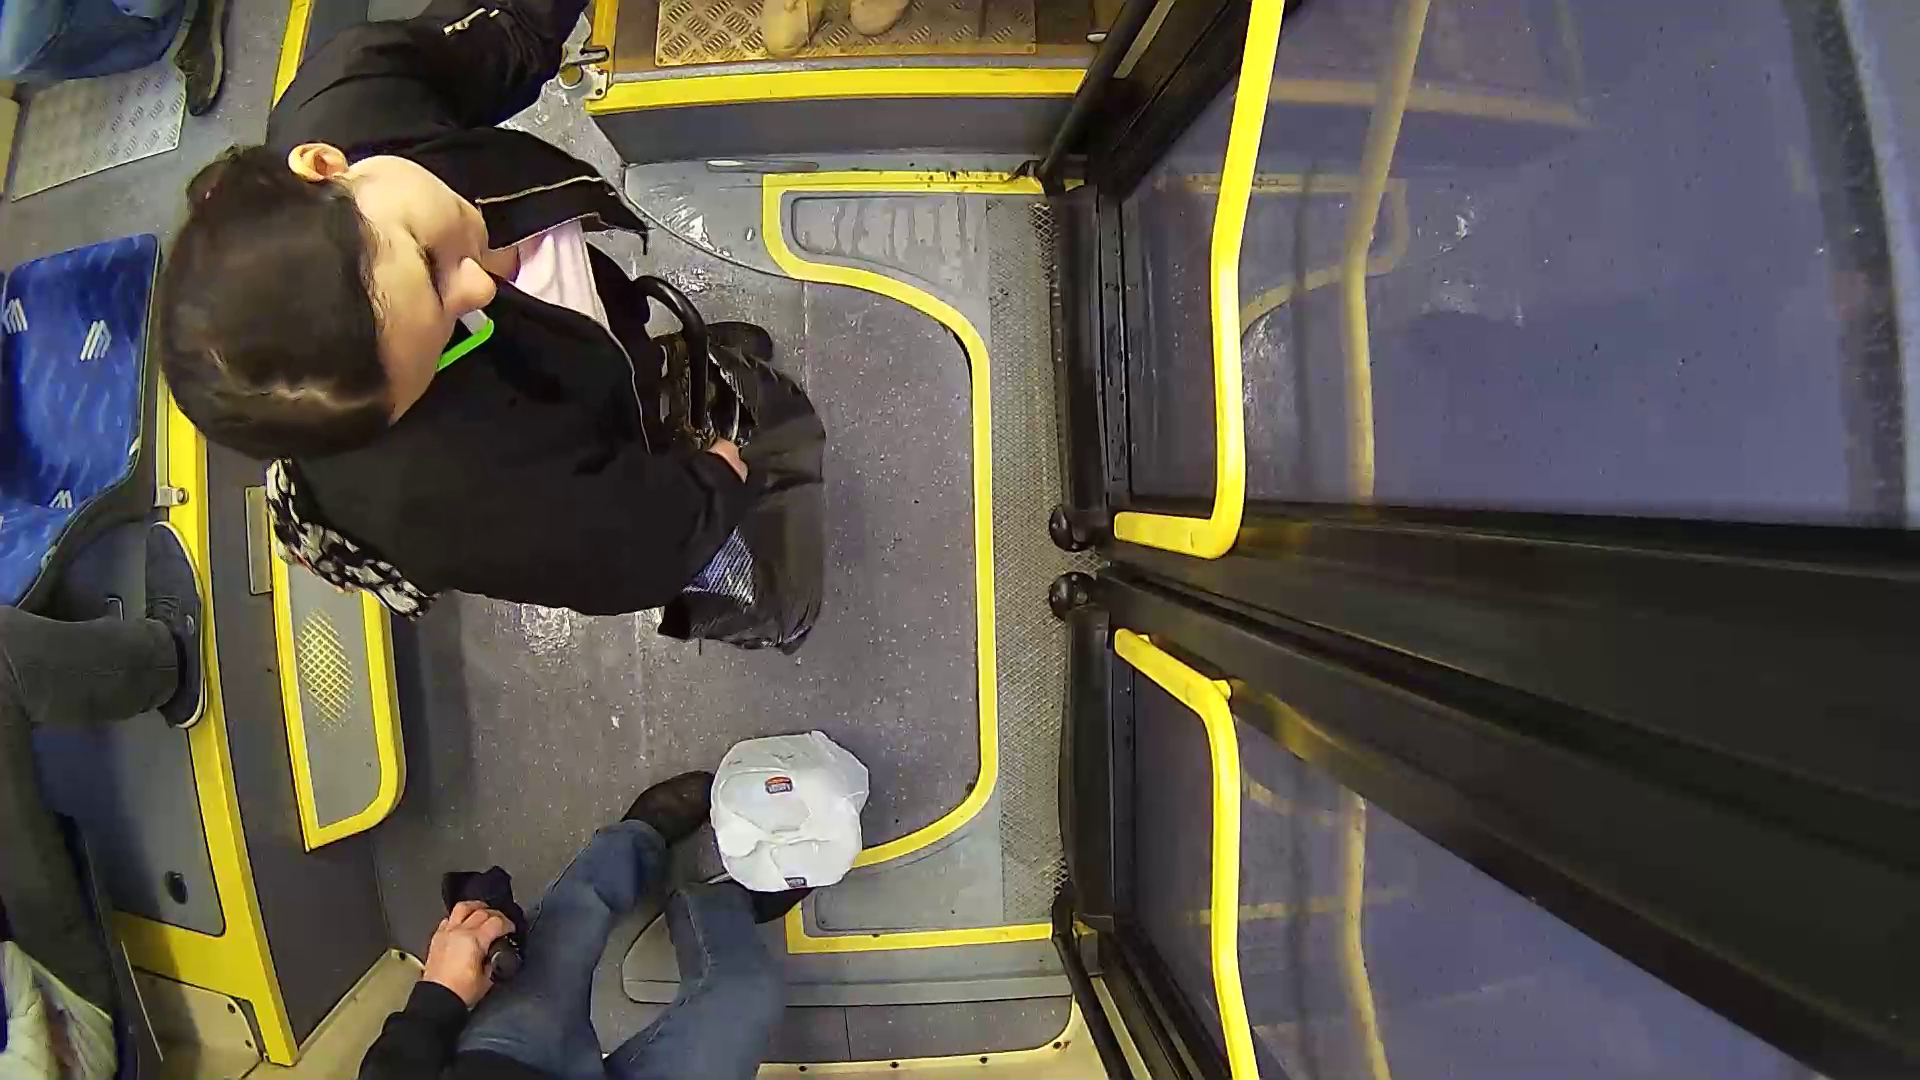person: (151, 45, 913, 682)
